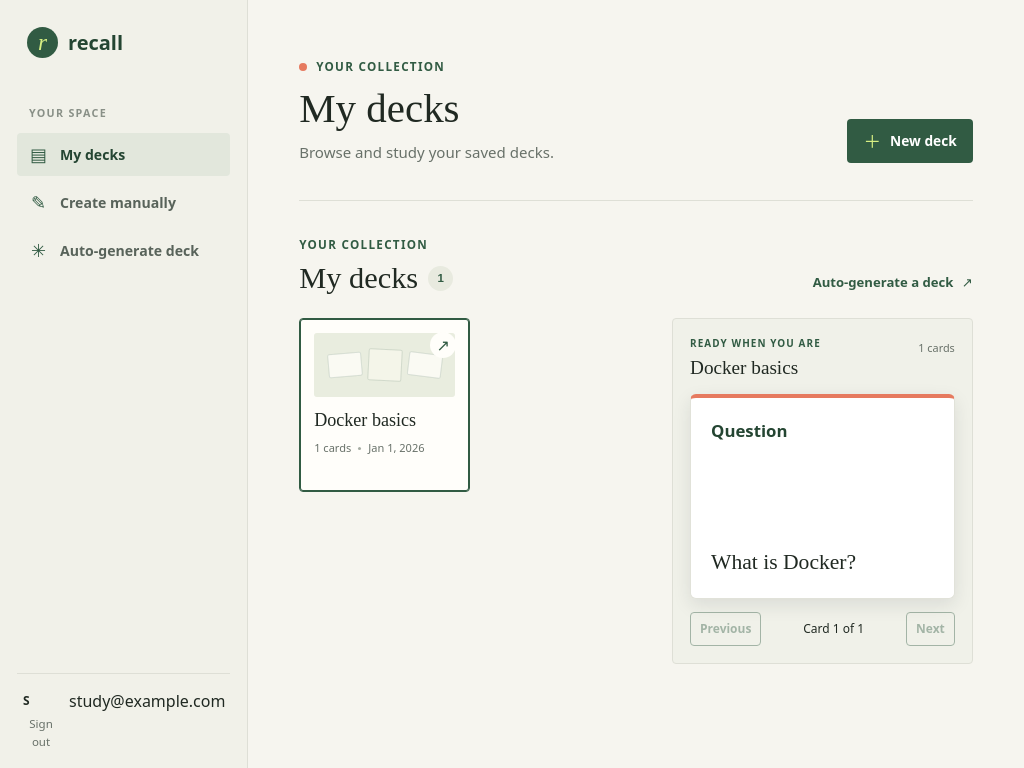
Test: Dashboard › shows an error when generated cards cannot be saved
Click the link "✳ Auto-generate deck".
click(115, 250)  # box [31,238,199,262]
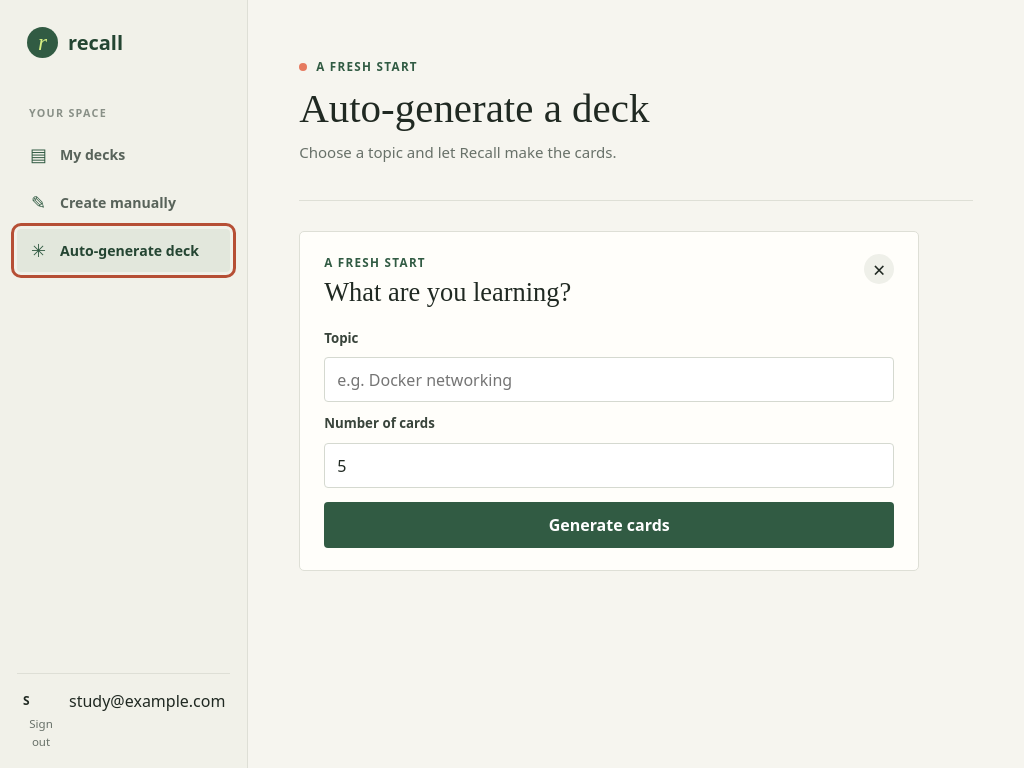
Type "French" into the field labelled "Topic".
click(609, 380); type("French")  # box [324,358,894,402]
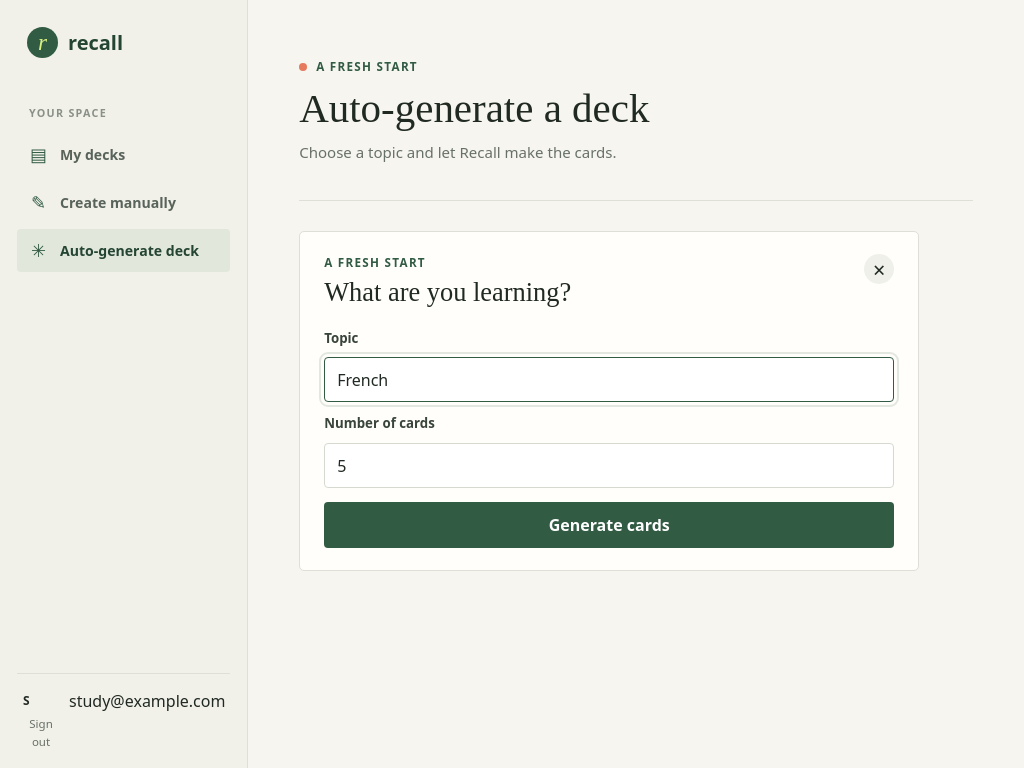
Click the button "Generate cards".
click(609, 525)  # box [324,502,894,548]
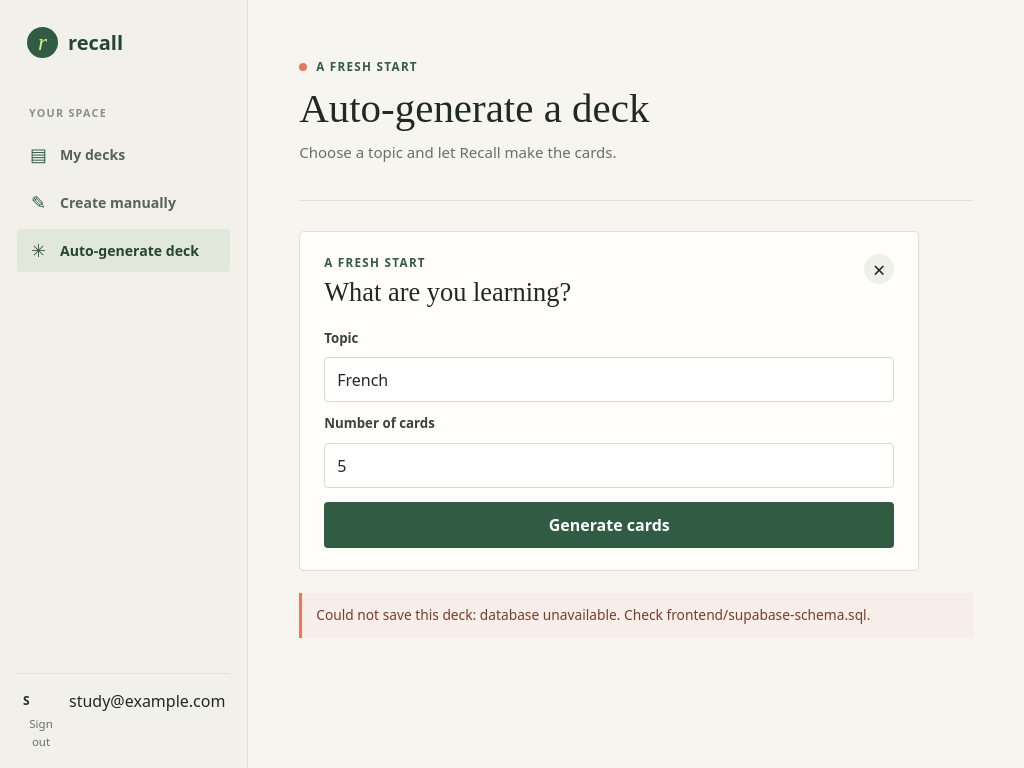
Now the heading "What are you learning?" is shown, box [324,277,571,308]
Now the message shows "Could not save this deck: database unavailable. Check frontend/supabase-schema.sql.", box [316,605,870,624]
